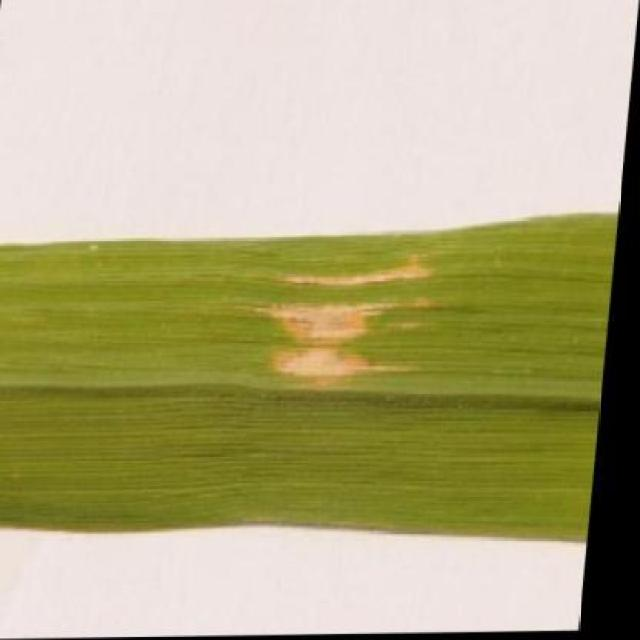Brown_Spot: (0, 214, 623, 555)
